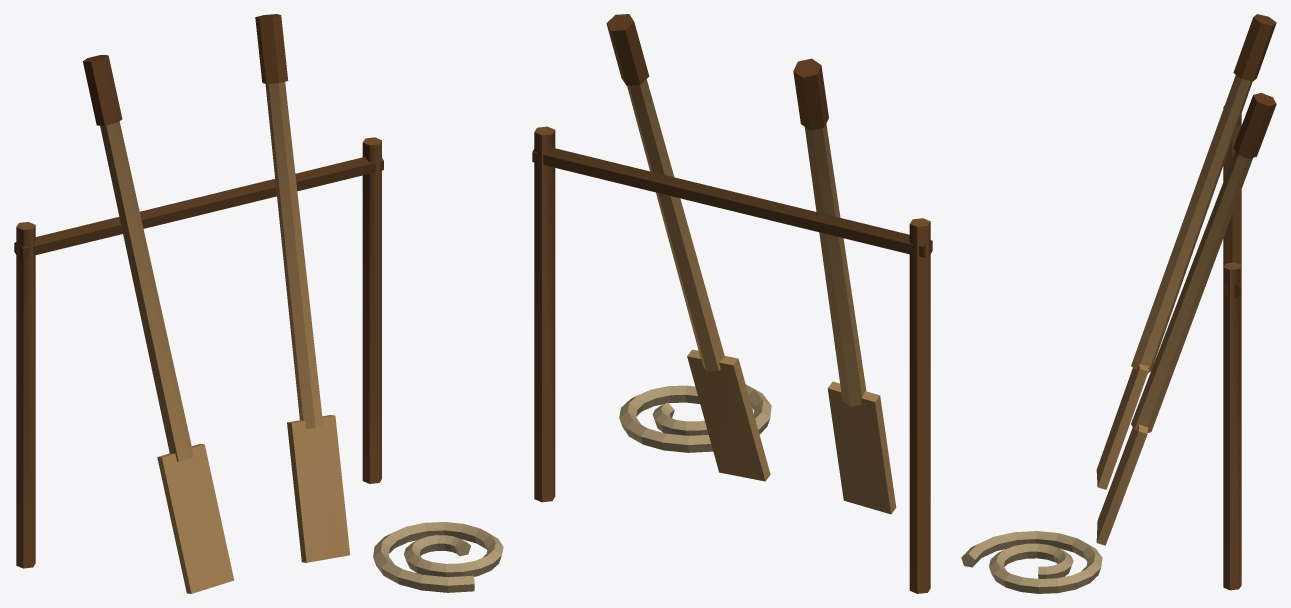
The picture shows the model from 3 angles, left to right: view 1: azimuth 30°, elevation 25°; view 2: azimuth 150°, elevation 25°; view 3: azimuth 270°, elevation 25°; orthographic projection. The views are drawn at different scales.
Parts seen in each view (by area): view 1: base; view 2: base; view 3: base.
Part boxes in pixels (x1,y1,x2,y2): base: [14, 14, 503, 593]; base: [532, 14, 932, 593]; base: [961, 14, 1276, 593].
Bounding box in the file's own units: 0.5239 × 0.6341 × 0.4001.
